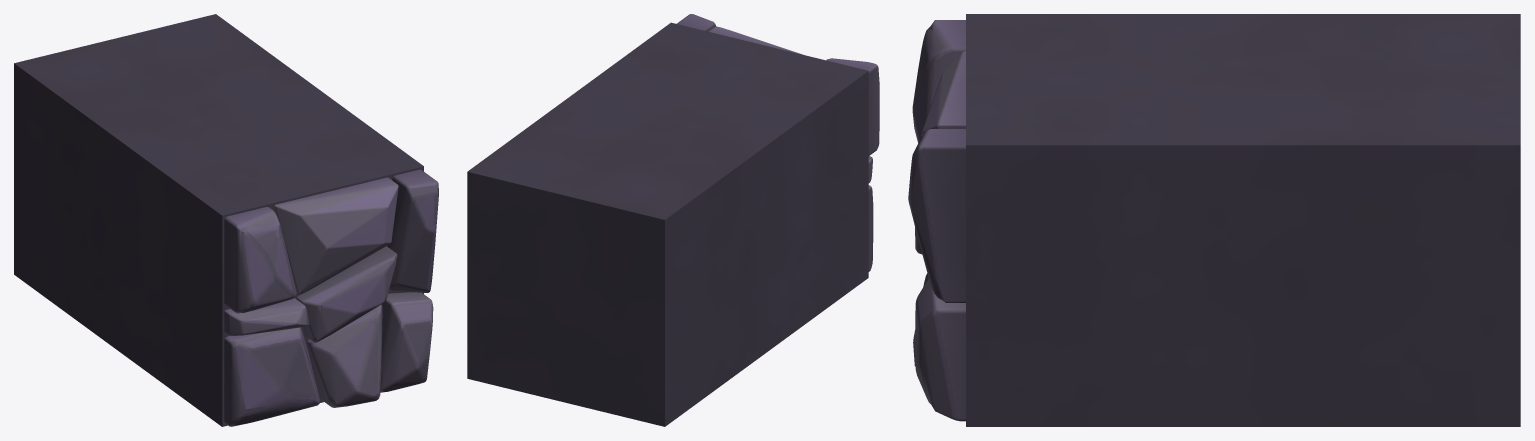
The model's file is EF_T04_StackedBasaltCore.fbx.
The picture shows the model from 3 angles, left to right: view 1: azimuth 30°, elevation 25°; view 2: azimuth 150°, elevation 25°; view 3: azimuth 270°, elevation 25°; orthographic projection. The views are drawn at different scales.
Parts seen in each view (by area): view 1: Rock; view 2: Rock; view 3: Rock.
Part boxes in pixels (x1,y1,x2,y2): Rock: (14,14,438,426); Rock: (467,14,879,426); Rock: (908,14,1520,426).
Bounding box in the file's own units: 2 × 2 × 3.94.
